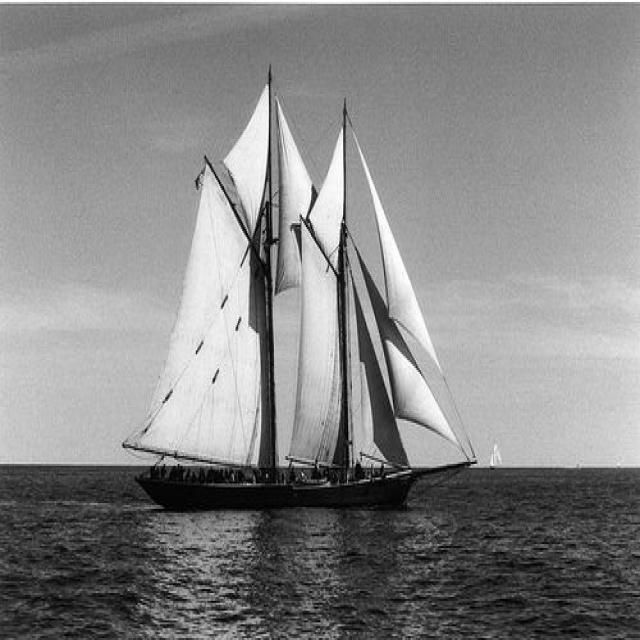Ship: (133, 73, 468, 512)
